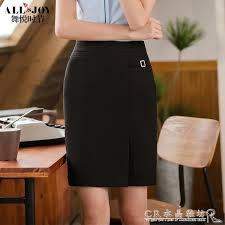F_tailored skirt: (57, 40, 162, 197)
